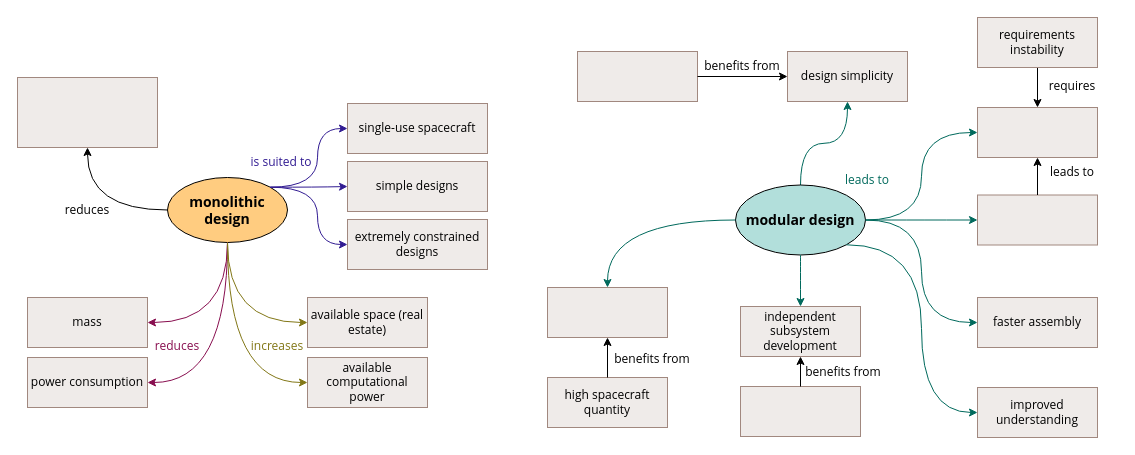
Some shapes in this 1135 by 455 pixel diagram are drawn without their labels. Each missing label, with the centre of its shape:
design flexibility: pixel 1037 132
easier analysis: pixel 800 411
effort for designing, implementing modular interfaces: pixel 87 112
lower redesign cost: pixel 1037 219
reduced risk: pixel 637 76
reusability: pixel 607 312
